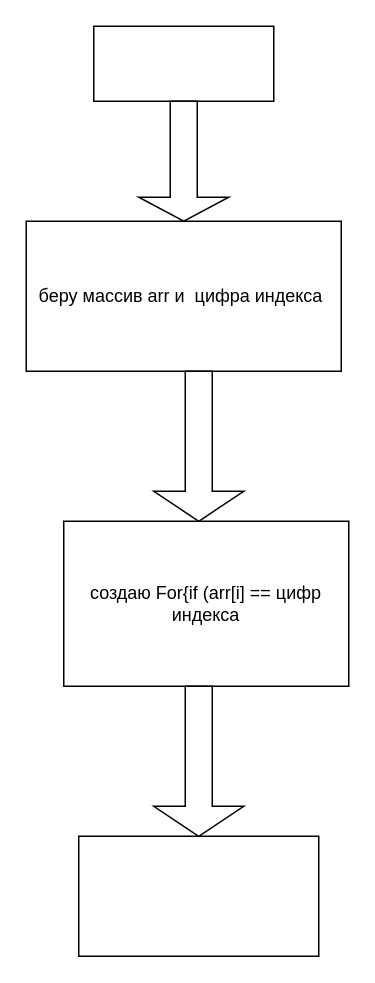
Image size: 375x983. Some labels were removed from this diagram. Each missing label, with the centre of its shape:
"Start" belongs at point (183, 63).
"Вывожу результат" belongs at point (198, 895).
